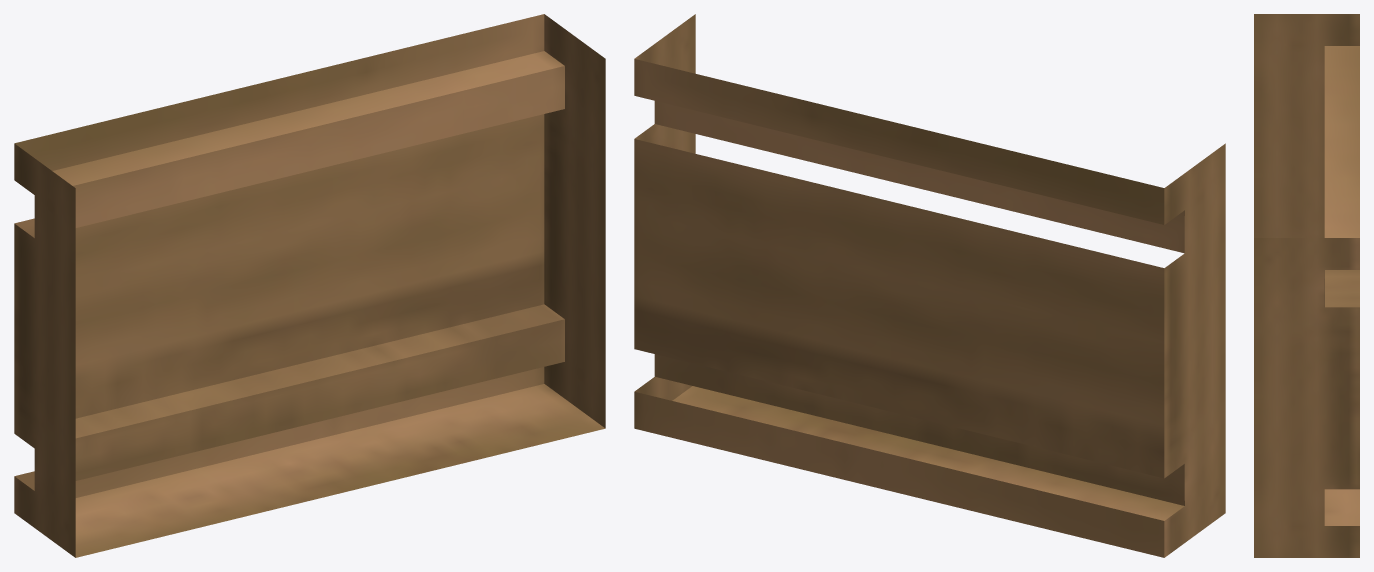
The model's file is SM_Train_Track.fbx.
3 views of the same model, side by side, from view 1: azimuth 30°, elevation 25°; view 2: azimuth 150°, elevation 25°; view 3: azimuth 270°, elevation 25° (orthographic). The views are drawn at different scales.
Visible parts, largest first — view 1: SM_Train_Trak; view 2: SM_Train_Trak; view 3: SM_Train_Trak.
Part boxes in pixels (x1,y1,x2,y2): SM_Train_Trak: (14, 14, 605, 557); SM_Train_Trak: (634, 14, 1225, 557); SM_Train_Trak: (1254, 14, 1359, 557).
Size of the model in its own units: 34.05 by 22.7 by 6.81.
